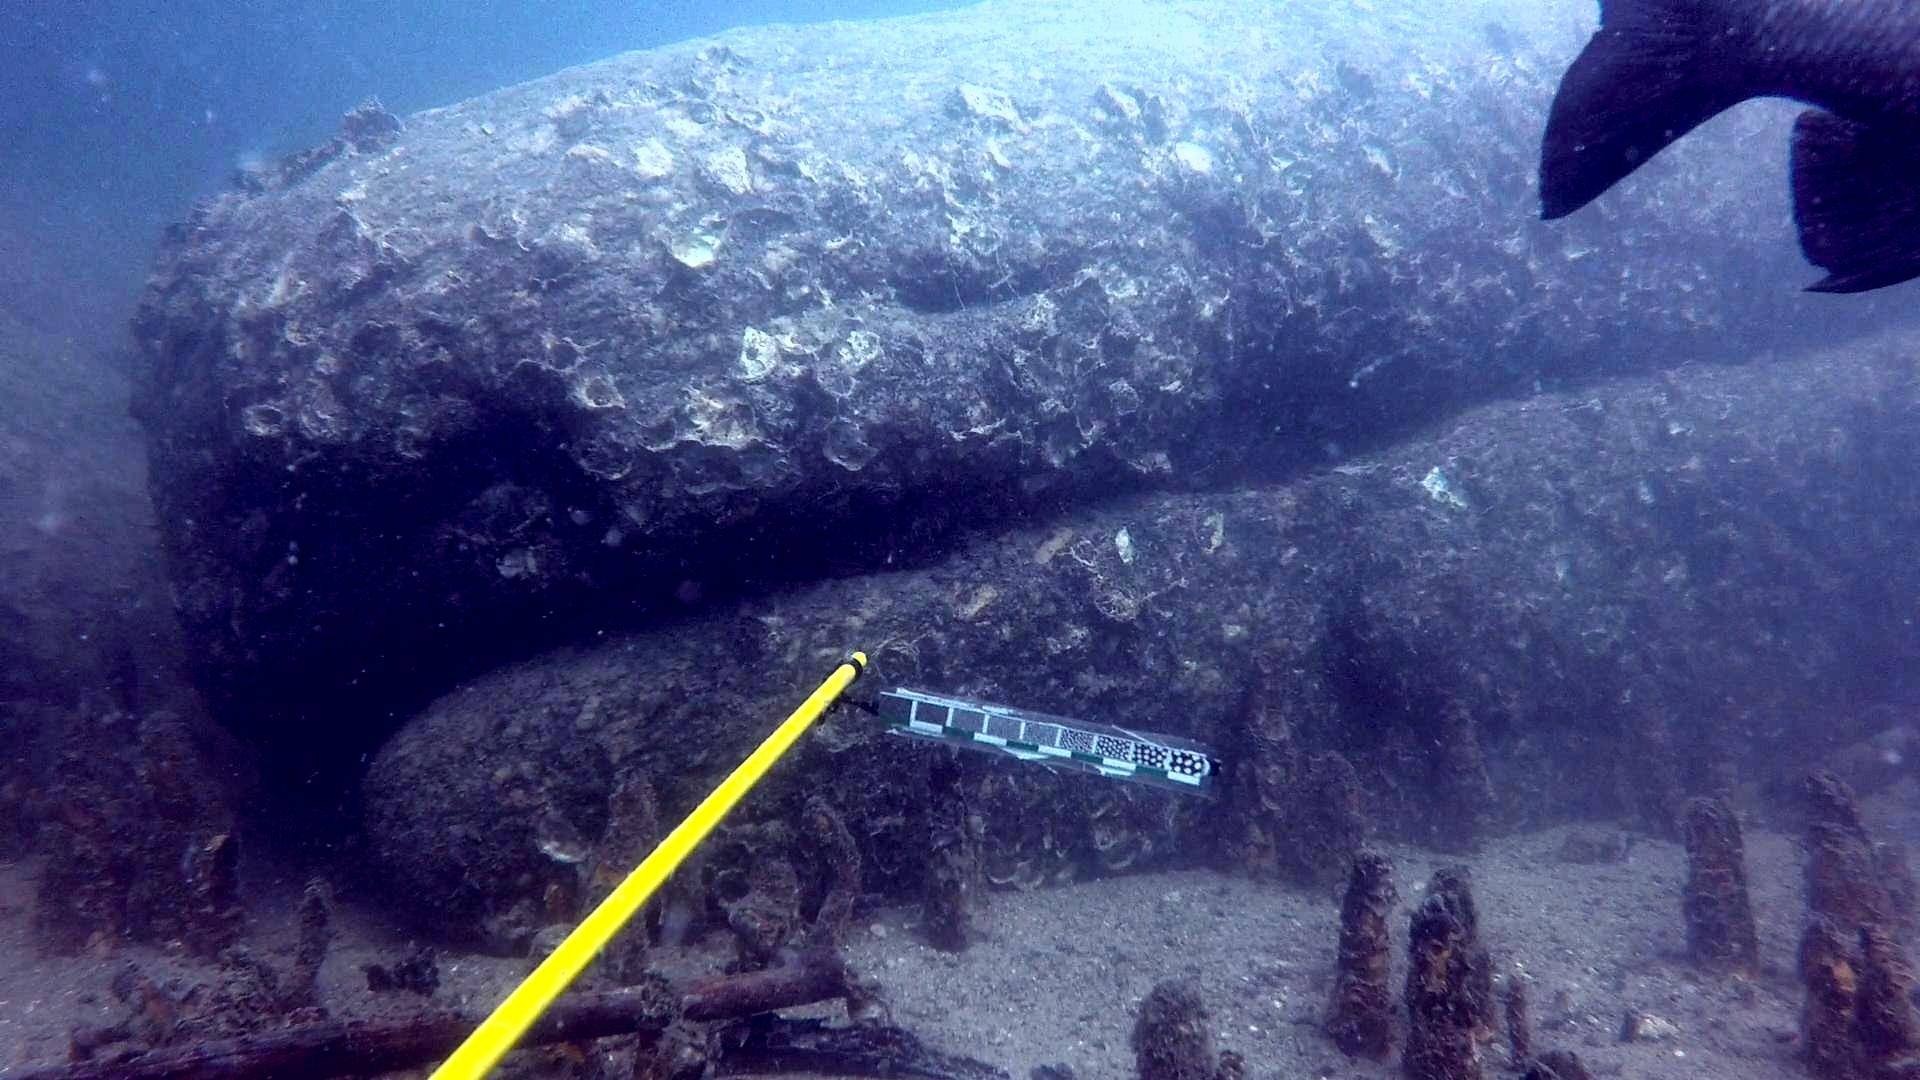acanthopagrus palmaris: (1532, 0, 1920, 302)
